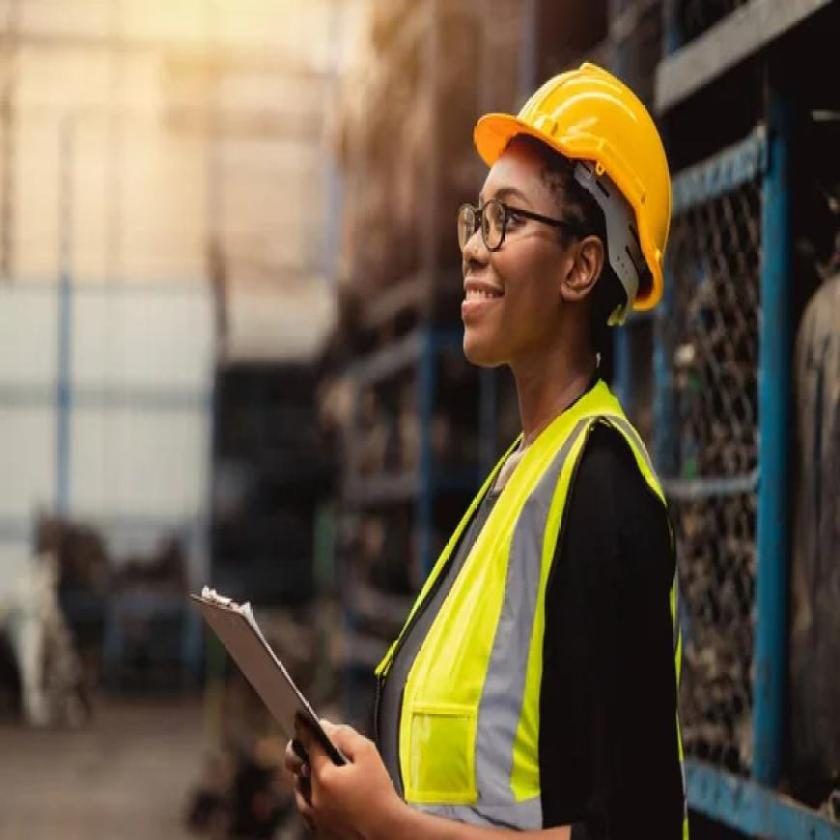Con_casco: (436, 47, 685, 384)
